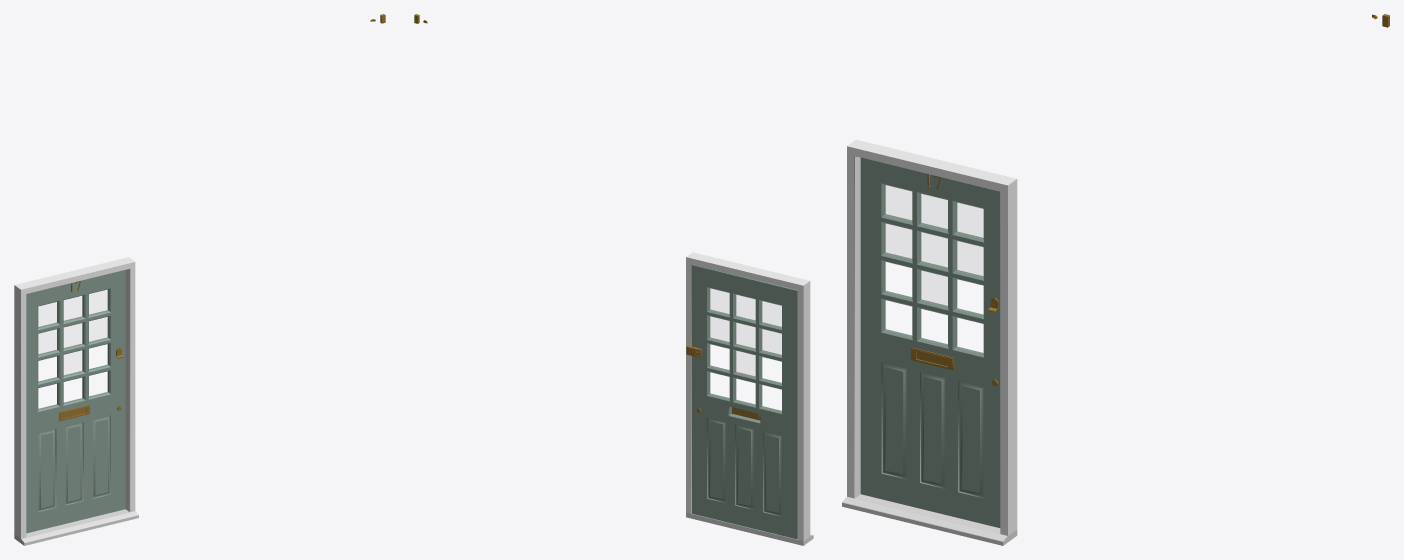
File: door.glb
3 renders of one model, left to right at view 1: azimuth 30°, elevation 25°; view 2: azimuth 150°, elevation 25°; view 3: azimuth 330°, elevation 25°, orthographic. The views are drawn at different scales.
Visible parts, largest first — view 1: C-Ex_Door_40_component_05, C-Ex_Door_35_component_02, C-Ex_Door_40_component_06, C-Ex_Door_40_component_06.002, C-Ex_Door_40_component_06.004, C-Ex_Door_01_component_03; view 2: C-Ex_Door_40_component_05, C-Ex_Door_35_component_02, C-Ex_Door_40_component_06.005, C-Ex_Door_40_component_06.001, C-Ex_Door_40_component_06.003, C-Ex_Door_01_component_03; view 3: C-Ex_Door_40_component_05, C-Ex_Door_35_component_02, C-Ex_Door_40_component_06.004, C-Ex_Door_40_component_06, C-Ex_Door_40_component_06.002, C-Ex_Door_01_component_03, G-Object.021, G-Object.026, G-Object.029.
Part boxes in pixels (left/top/right/bottom): C-Ex_Door_40_component_05: left=26, top=270, right=125, bottom=533; C-Ex_Door_35_component_02: left=14, top=257, right=135, bottom=538; C-Ex_Door_40_component_06: left=37, top=428, right=56, bottom=512; C-Ex_Door_40_component_06.002: left=65, top=421, right=83, bottom=505; C-Ex_Door_40_component_06.004: left=92, top=415, right=110, bottom=499; C-Ex_Door_01_component_03: left=14, top=509, right=138, bottom=545; C-Ex_Door_40_component_05: left=692, top=264, right=797, bottom=539; C-Ex_Door_35_component_02: left=686, top=252, right=810, bottom=541; C-Ex_Door_40_component_06.005: left=707, top=417, right=726, bottom=503; C-Ex_Door_40_component_06.001: left=763, top=431, right=782, bottom=516; C-Ex_Door_40_component_06.003: left=735, top=424, right=754, bottom=510; C-Ex_Door_01_component_03: left=686, top=512, right=813, bottom=545; C-Ex_Door_40_component_05: left=860, top=157, right=1000, bottom=527; C-Ex_Door_35_component_02: left=847, top=139, right=1017, bottom=535; C-Ex_Door_40_component_06.004: left=957, top=380, right=984, bottom=498; C-Ex_Door_40_component_06: left=881, top=362, right=907, bottom=480; C-Ex_Door_40_component_06.002: left=919, top=371, right=945, bottom=489; C-Ex_Door_01_component_03: left=842, top=494, right=1017, bottom=545; G-Object.021: left=921, top=271, right=947, bottom=305; G-Object.026: left=921, top=233, right=947, bottom=267; G-Object.029: left=921, top=195, right=947, bottom=229.
Size of the model in its own units: 3.32 by 3.64 by 0.233.
